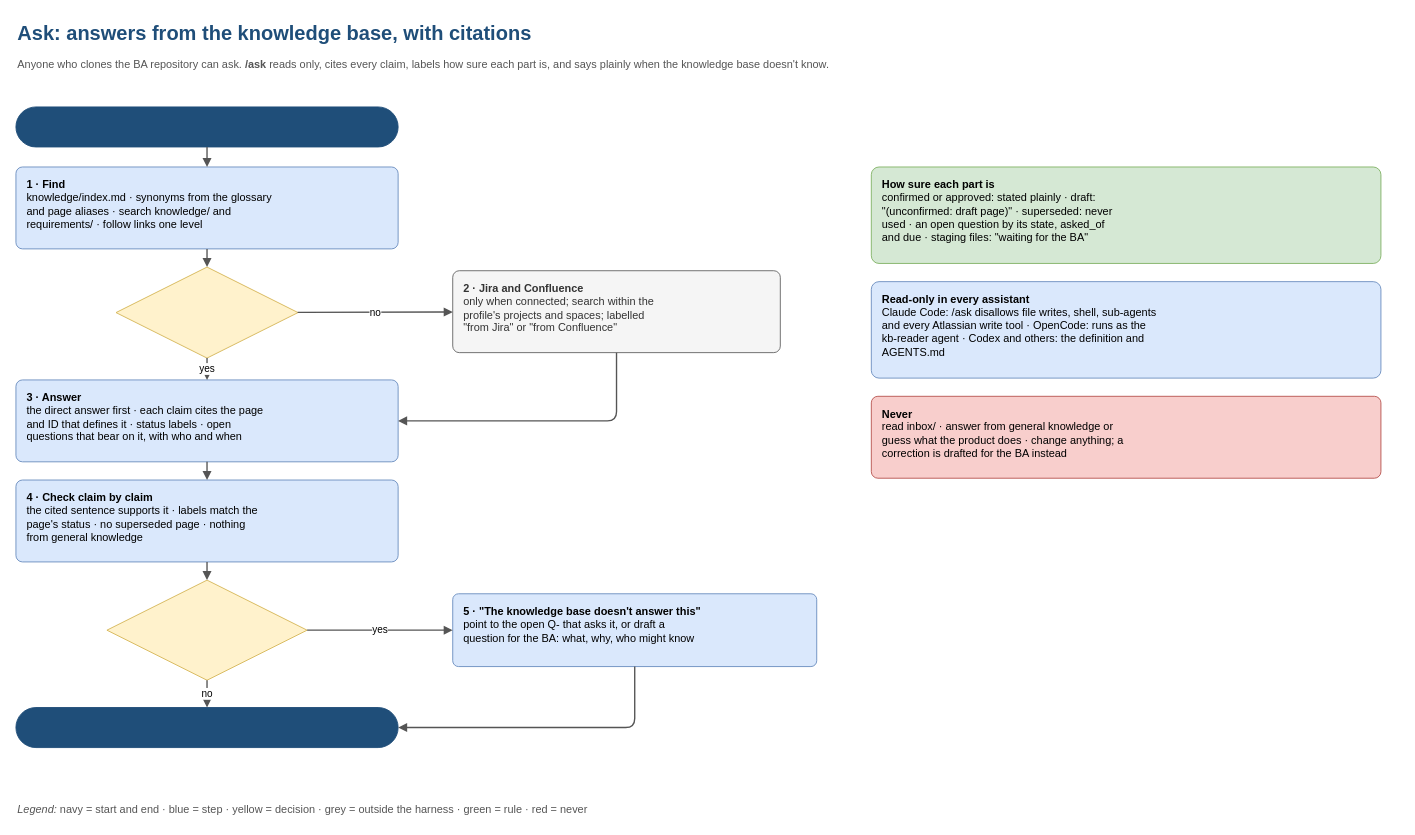
The diagram is 1415 pixels wide and 835 high, and some of its shapes have lost their labels. The shapes that lost their labels are listed below. From the top down, each one's centre as x and y in pixels, then its label:
pixel 206 126: /ask <question> (anyone)
pixel 206 312: Settled by the knowledge base?
pixel 206 629: Anything the knowledge base doesn't know?
pixel 206 727: Cited answer
